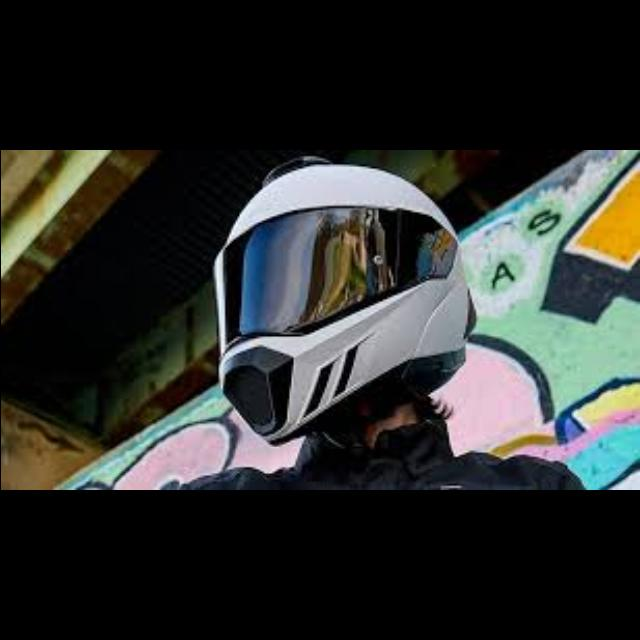motorcycle-helmets: (214, 170, 474, 441)
